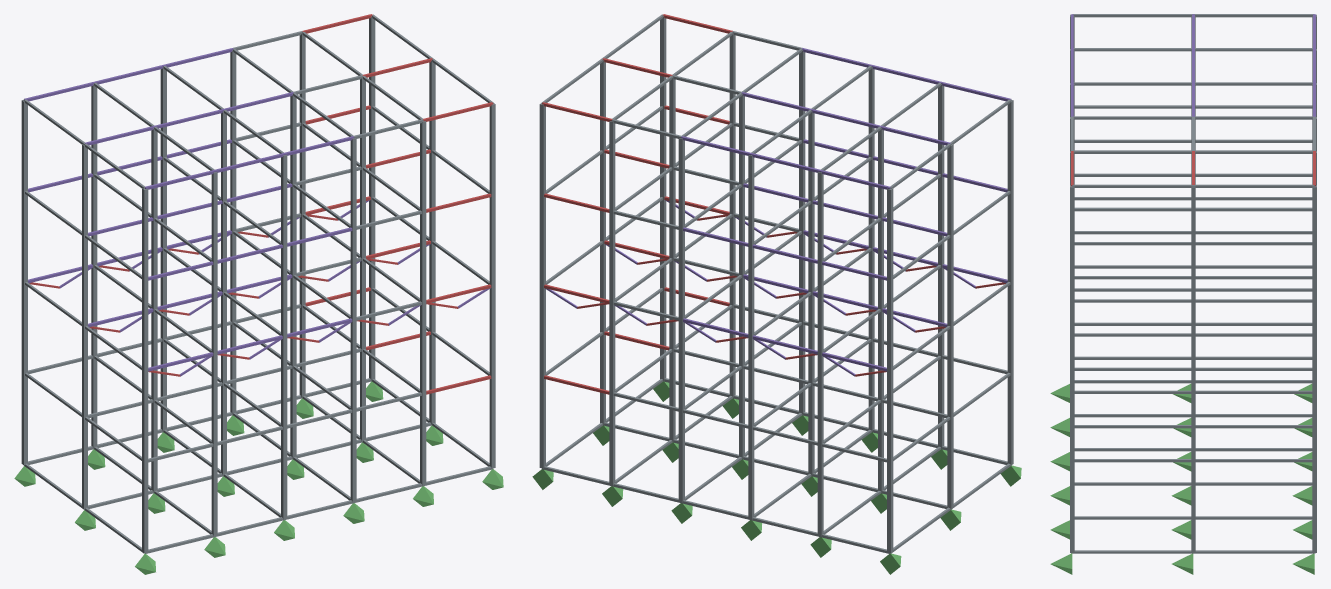
File: 05_structural_analysis_results_visual.glb
The picture shows the model from 3 angles, left to right: view 1: azimuth 30°, elevation 25°; view 2: azimuth 150°, elevation 25°; view 3: azimuth 270°, elevation 25°; orthographic projection.
Parts seen in each view (by area): view 1: world; view 2: world; view 3: world.
Boxes of the visible parts, x1=… form: world: x1=14, y1=14, x2=503, y2=574; world: x1=532, y1=14, x2=1021, y2=574; world: x1=1050, y1=14, x2=1316, y2=574.
Size of the model in its own units: 4.24 by 4.26 by 2.64.
